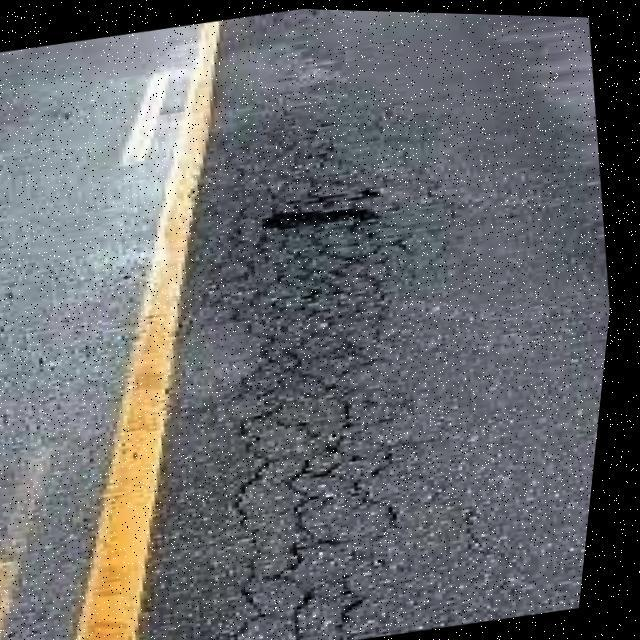pothole: (257, 182, 389, 246)
